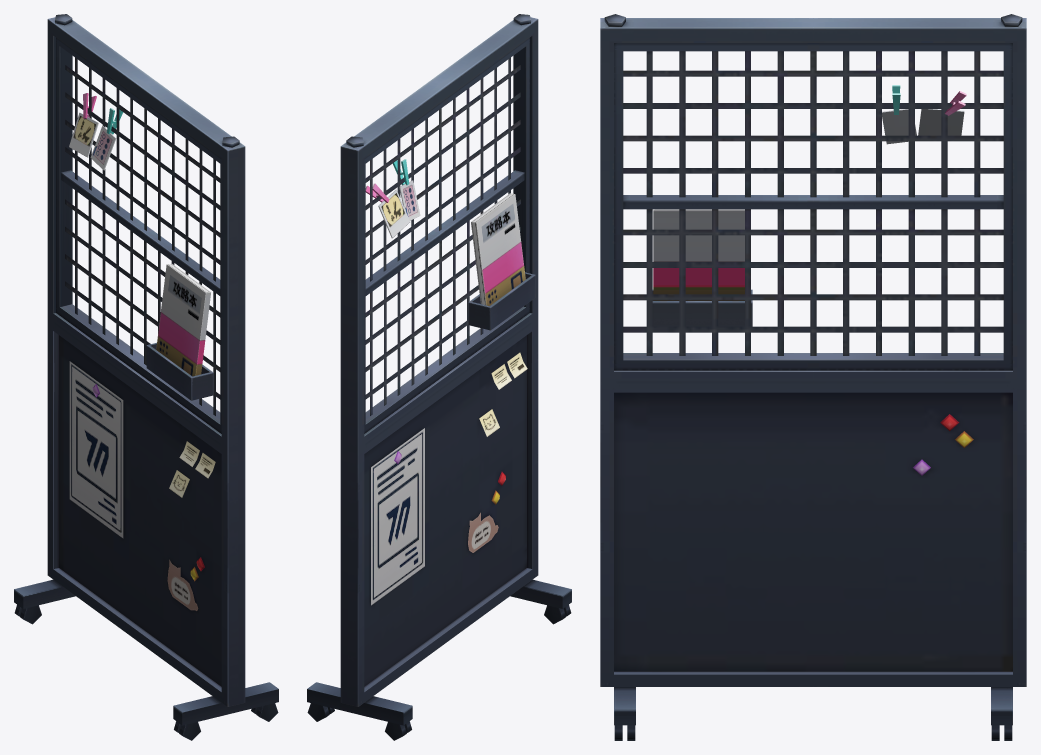
The model's file is my_gamedevdept_01_partition_01.glb.
3 views of the same model, side by side, from view 1: azimuth 30°, elevation 25°; view 2: azimuth 150°, elevation 25°; view 3: azimuth 270°, elevation 25° (orthographic). The views are drawn at different scales.
Parts seen in each view (by area): view 1: my_gamedevdept_01_partition_01; view 2: my_gamedevdept_01_partition_01; view 3: my_gamedevdept_01_partition_01.
Part boxes in pixels (x1,y1,x2,y2): my_gamedevdept_01_partition_01: (14, 14, 278, 740); my_gamedevdept_01_partition_01: (307, 14, 571, 740); my_gamedevdept_01_partition_01: (600, 14, 1026, 740).
Bounding box in the file's own units: 0.00179 × 0.0105 × 0.0058.
1 material, 1 textured.
